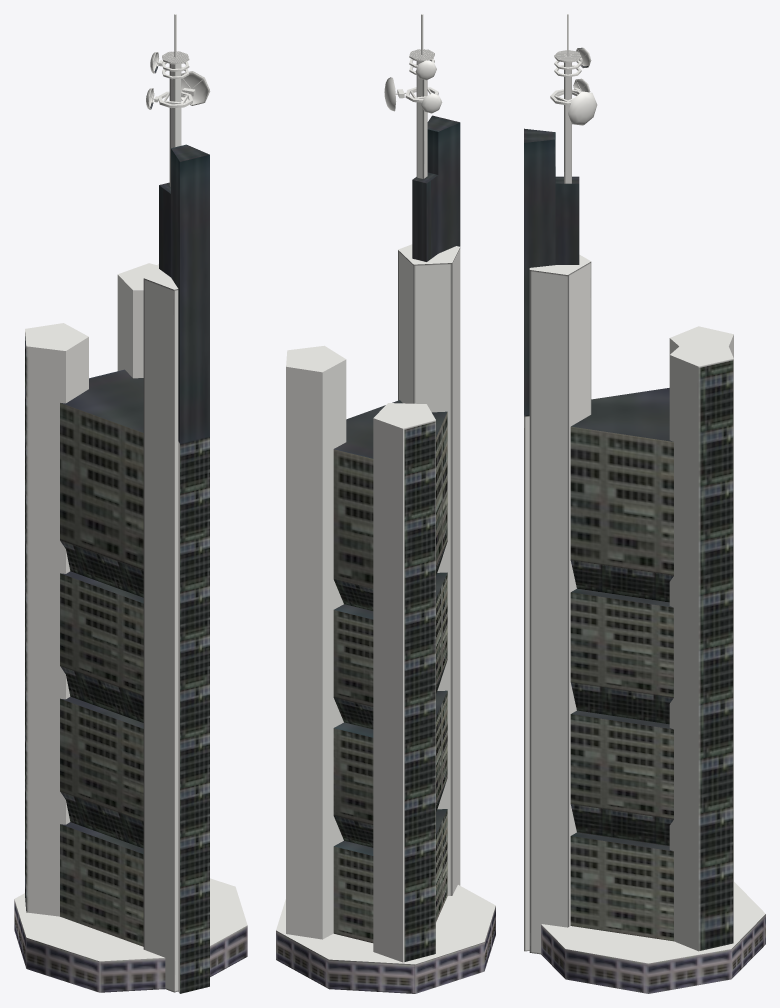
The model's file is mitakihara_tower02.fbx.
3 renders of one model, left to right at view 1: azimuth 30°, elevation 25°; view 2: azimuth 150°, elevation 25°; view 3: azimuth 270°, elevation 25°, orthographic. The views are drawn at different scales.
Visible parts, largest first — view 1: tower; view 2: tower; view 3: tower.
Part boxes in pixels (x1=…): tower: x1=14, y1=14, x2=247, y2=993; tower: x1=276, y1=14, x2=495, y2=993; tower: x1=524, y1=14, x2=765, y2=993.
Size of the model in its own units: 140 by 612 by 144.
